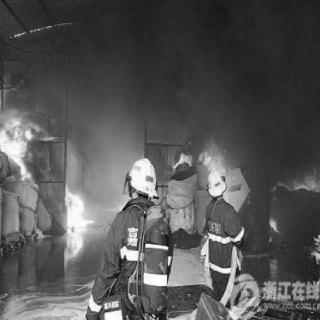other: (127, 150, 157, 198), (208, 170, 225, 202)
